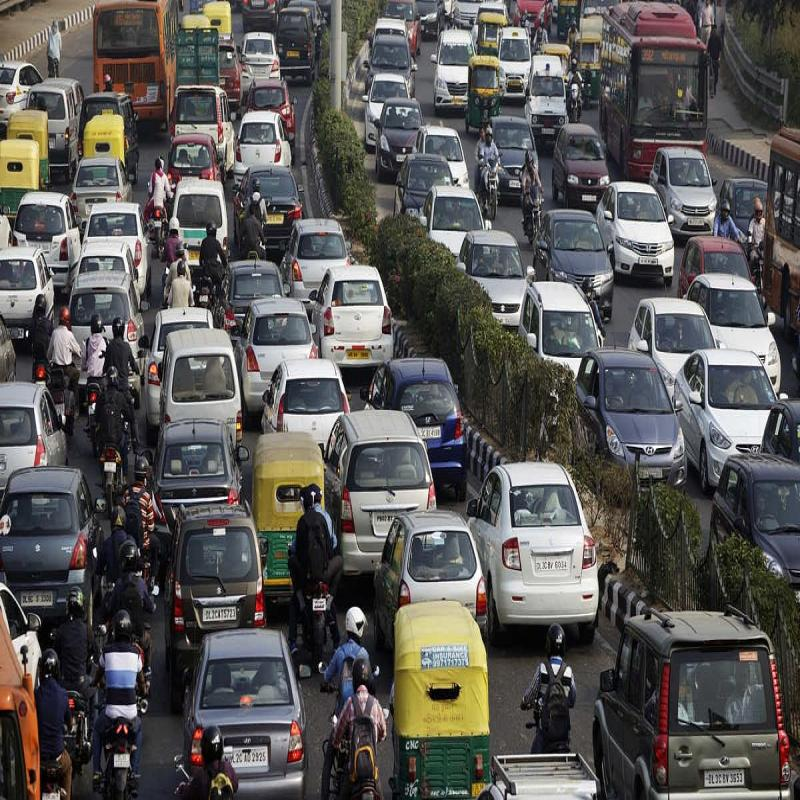auto: (382, 596, 489, 800), (241, 416, 337, 626), (0, 129, 44, 235), (74, 105, 130, 167)
car: (467, 434, 614, 658), (176, 617, 323, 800), (318, 392, 446, 595), (560, 328, 698, 502), (160, 487, 275, 670), (382, 501, 498, 667), (368, 347, 474, 515), (668, 342, 784, 479), (0, 453, 103, 602), (151, 322, 247, 480), (150, 311, 249, 461), (514, 271, 617, 403), (526, 197, 622, 326), (582, 165, 683, 286), (262, 344, 356, 455), (647, 129, 724, 257), (240, 285, 318, 396), (456, 212, 530, 326), (419, 176, 493, 284), (547, 115, 611, 219)
